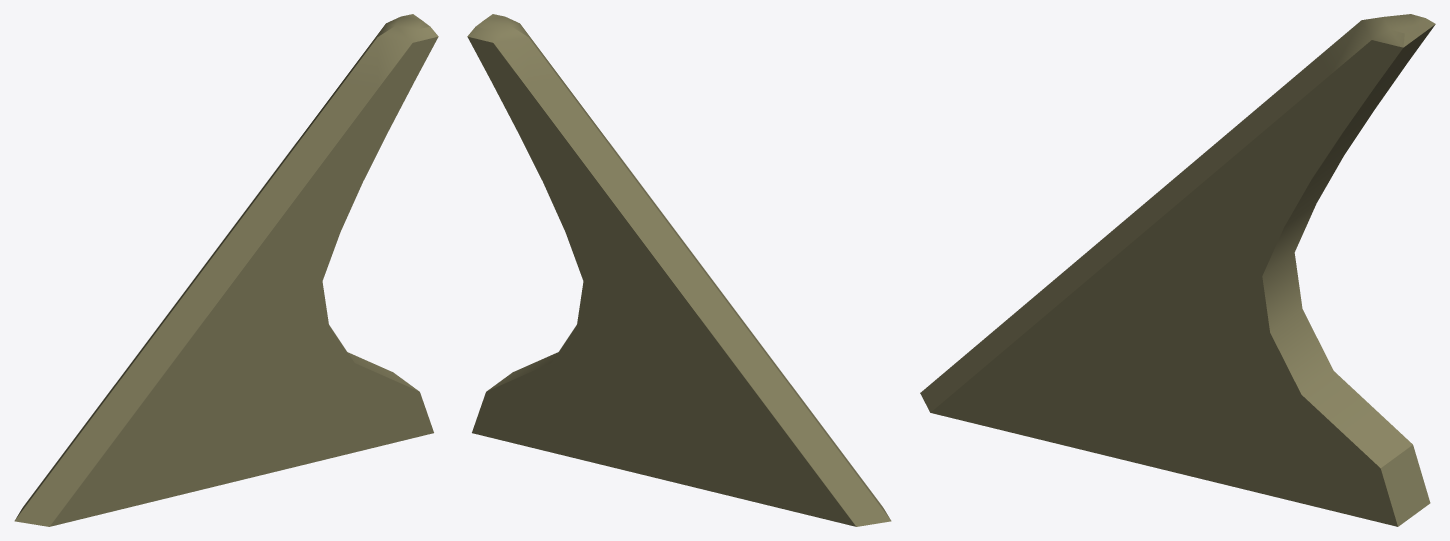
File: Wskazowka_01.fbx
3 views of the same model, side by side, from view 1: azimuth 30°, elevation 25°; view 2: azimuth 150°, elevation 25°; view 3: azimuth 330°, elevation 25° (orthographic). The views are drawn at different scales.
Visible parts, largest first — view 1: Plane; view 2: Plane; view 3: Plane.
Part boxes in pixels (left/top/right/bottom): Plane: left=14, top=14, right=438, bottom=526; Plane: left=467, top=14, right=891, bottom=526; Plane: left=920, top=14, right=1435, bottom=526.
Size of the model in its own units: 2.14 by 2 by 0.24.
